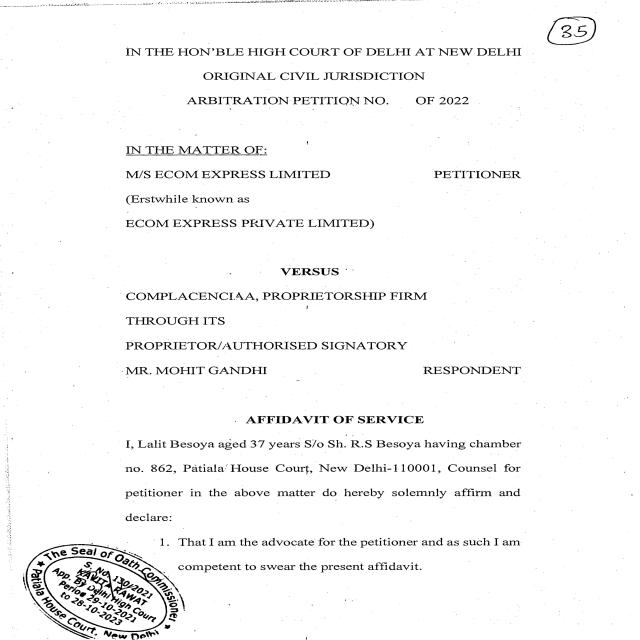page-number: (526, 0, 640, 64)
